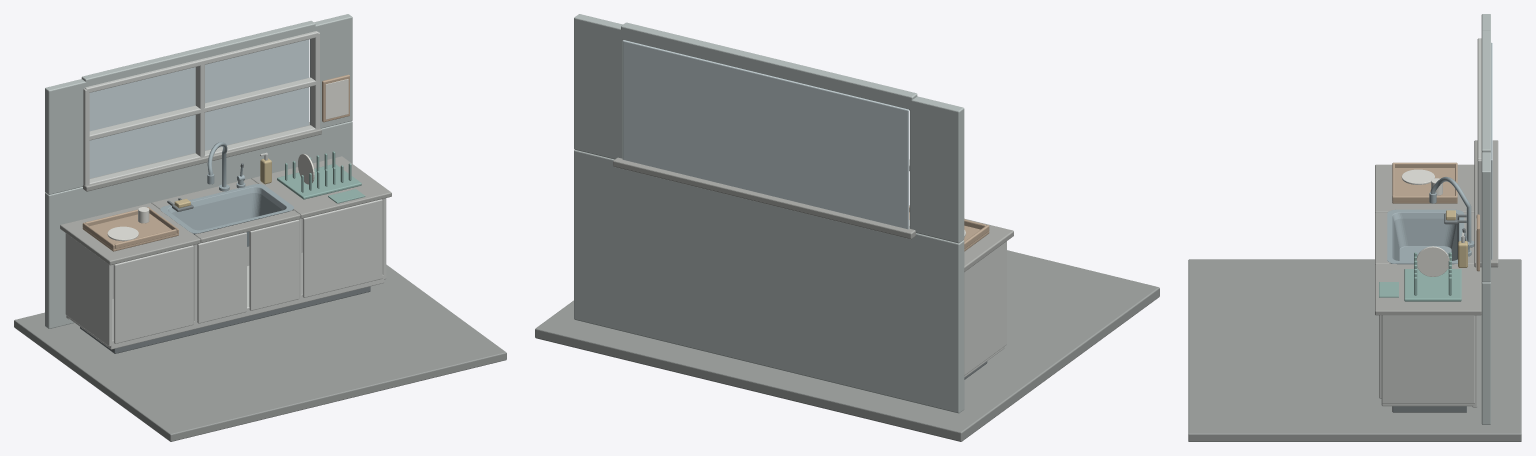
File: kitchen-workstation.glb
The picture shows the model from 3 angles, left to right: view 1: azimuth 30°, elevation 25°; view 2: azimuth 150°, elevation 25°; view 3: azimuth 270°, elevation 25°; orthographic projection. The views are drawn at different scales.
Visible parts, largest first — view 1: Floor, Window_Background, Backsplash, Cabinet_Front_3, Cabinet_Front_0, Wall_Left, Cabinet_Front_2, Cabinet_Front_1, Cabinet_Side_0, Sink_Open_Shell, Wall_Above_Window, Counter_Right (+16 smaller); view 2: Backsplash, Window_Background, Floor, Wall_Left, Wall_Right, Wall_Above_Window, Cabinet_Side_0, Window_Sill, Counter_Left; view 3: Floor, Cabinet_Side_3, Sink_Open_Shell, Counter_Right, Counter_Left, Clean_Rack_Base, Backsplash, Window_Sill, Wall_Right, Wall_Above_Window, Dirty_Tray_Base, Proxy_Clean_Plate_250mm (+10 smaller).
Part boxes in pixels (<box>): Floor: <box>14,264,506,441</box>; Window_Background: <box>89,39,309,178</box>; Backsplash: <box>45,121,352,328</box>; Cabinet_Front_3: <box>302,199,382,297</box>; Cabinet_Front_0: <box>113,245,193,343</box>; Wall_Left: <box>45,79,86,194</box>; Cabinet_Front_2: <box>249,219,299,310</box>; Cabinet_Front_1: <box>197,232,246,323</box>; Cabinet_Side_0: <box>65,233,112,346</box>; Sink_Open_Shell: <box>160,184,293,246</box>; Wall_Above_Window: <box>81,20,315,86</box>; Counter_Right: <box>251,156,391,218</box>; Backsplash: <box>574,150,964,413</box>; Window_Background: <box>622,40,909,229</box>; Floor: <box>535,250,1159,441</box>; Wall_Left: <box>910,96,964,243</box>; Wall_Right: <box>574,14,622,159</box>; Wall_Above_Window: <box>621,22,917,110</box>; Cabinet_Side_0: <box>964,241,1006,375</box>; Window_Sill: <box>613,157,915,239</box>; Counter_Left: <box>909,205,1013,271</box>; Floor: <box>1188,259,1521,441</box>; Cabinet_Side_3: <box>1381,315,1474,403</box>; Sink_Open_Shell: <box>1387,209,1464,264</box>; Counter_Right: <box>1375,264,1481,315</box>; Counter_Left: <box>1375,164,1474,212</box>; Clean_Rack_Base: <box>1404,269,1461,301</box>; Backsplash: <box>1481,282,1490,424</box>; Window_Sill: <box>1474,140,1498,267</box>; Wall_Right: <box>1481,152,1490,282</box>; Wall_Above_Window: <box>1481,30,1490,152</box>; Dirty_Tray_Base: <box>1392,168,1457,203</box>; Proxy_Clean_Plate_250mm: <box>1416,246,1449,276</box>.
Size of the model in its own units: 3.1 by 2.19 by 2.5.
